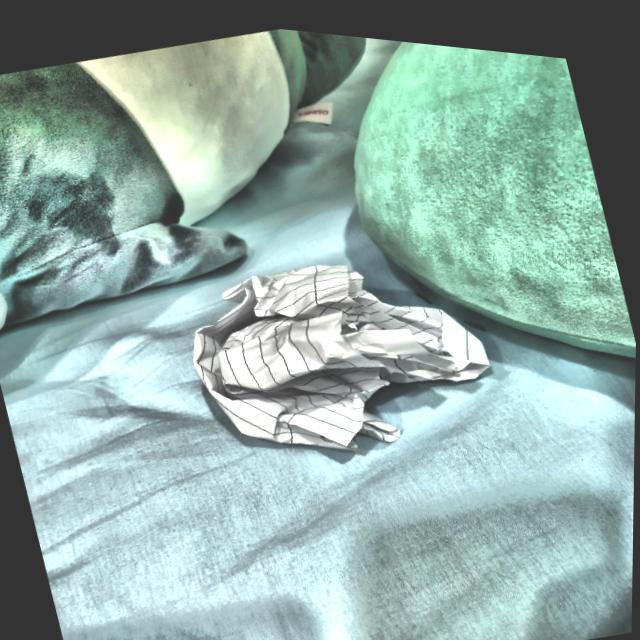Paper: (179, 208, 512, 484)
